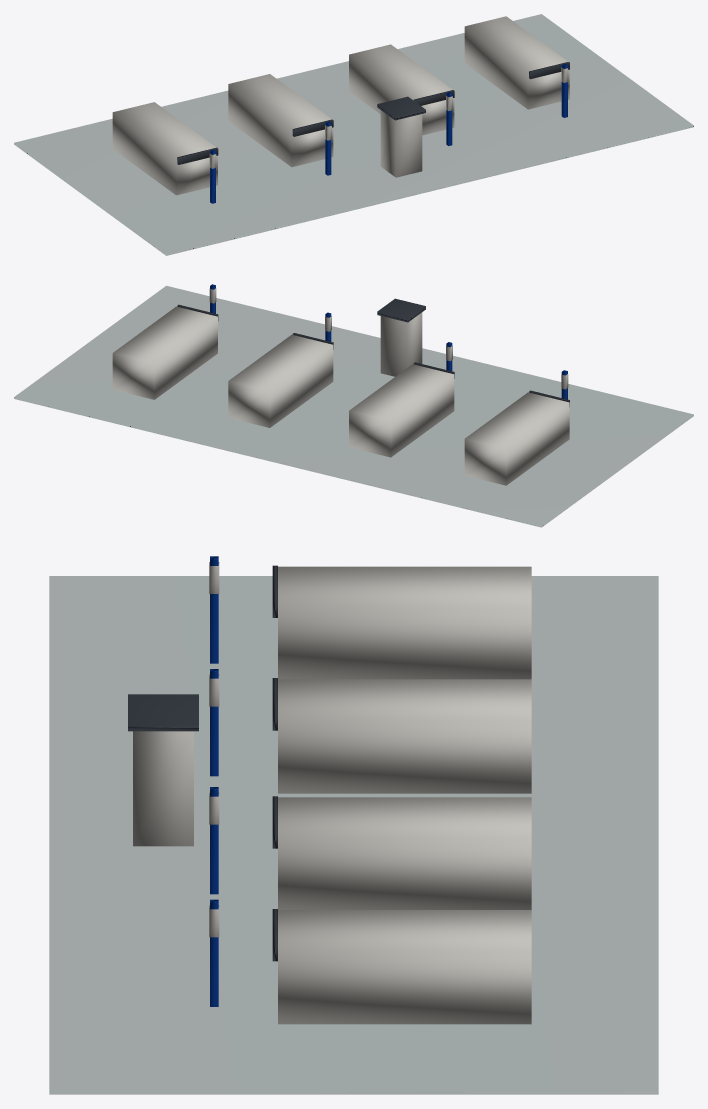
The picture shows the model from 3 angles, top to bottom: view 1: azimuth 30°, elevation 25°; view 2: azimuth 150°, elevation 25°; view 3: azimuth 270°, elevation 25°; orthographic projection. The views are drawn at different scales.
Visible parts, largest first — view 1: walk_simplified, canopy_simplified; view 2: walk_simplified, canopy_simplified; view 3: walk_simplified, canopy_simplified.
Part boxes in pixels (x1,y1,x2,y2): walk_simplified: (14, 14, 693, 255); canopy_simplified: (112, 16, 569, 203); walk_simplified: (14, 285, 693, 527); canopy_simplified: (112, 284, 569, 485); walk_simplified: (49, 576, 658, 1094); canopy_simplified: (128, 556, 531, 1024).
Bounding box in the file's own units: 48 × 7.55 × 24.
Materials: 2 (2 with a texture image).
